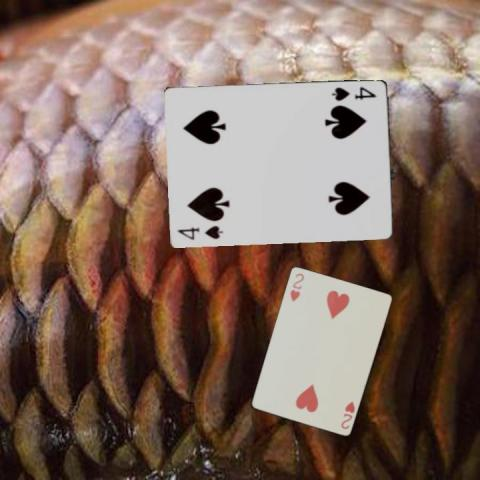2h: (338, 398, 357, 430), (287, 271, 306, 303)
4s: (175, 222, 225, 241), (332, 83, 377, 102)
